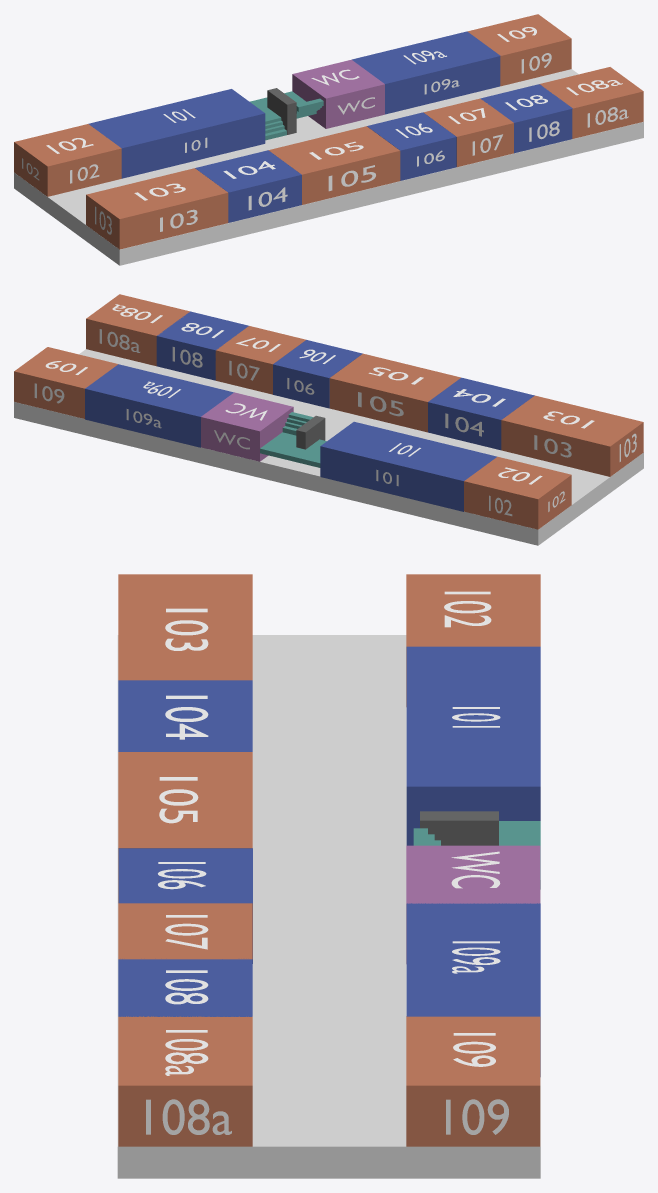
Rendered from NastavniBlokUcionice2.glb.
The picture shows the model from 3 angles, top to bottom: view 1: azimuth 30°, elevation 25°; view 2: azimuth 150°, elevation 25°; view 3: azimuth 270°, elevation 25°; orthographic projection. The views are drawn at different scales.
Visible parts, largest first — view 1: Cube, Svecana.001, 016.001, Svecana, 017, 018, 016, 016.005, WC, 016.004, 016.003, 016.002 (+2 smaller); view 2: Cube, Svecana.001, 016.001, Svecana, 017, 018, 016, 016.005, 016.004, WC, 016.003, 016.002 (+4 smaller); view 3: Cube, Svecana.001, 016.005, 016.004, Svecana, 016.001, 017, 018, 016, WC, 016.003, 016.002 (+7 smaller).
Part boxes in pixels (bbox=[...]): Cube: bbox=[14, 69, 643, 265]; Svecana.001: bbox=[88, 89, 265, 178]; 016.001: bbox=[86, 168, 228, 249]; Svecana: bbox=[352, 31, 500, 114]; 017: bbox=[268, 126, 400, 204]; 018: bbox=[14, 124, 121, 196]; 016: bbox=[195, 150, 301, 222]; 016.005: bbox=[467, 14, 571, 86]; WC: bbox=[292, 59, 384, 128]; 016.004: bbox=[539, 67, 643, 138]; 016.003: bbox=[480, 84, 572, 153]; 016.002: bbox=[423, 98, 513, 167]; Cube: bbox=[14, 349, 643, 545]; Svecana.001: bbox=[320, 421, 496, 511]; 016.001: bbox=[501, 395, 643, 476]; Svecana: bbox=[85, 364, 233, 447]; 017: bbox=[329, 353, 460, 432]; 018: bbox=[464, 456, 571, 529]; 016: bbox=[428, 377, 534, 450]; 016.005: bbox=[14, 347, 118, 418]; 016.004: bbox=[86, 294, 189, 366]; WC: bbox=[201, 392, 293, 461]; 016.003: bbox=[156, 311, 248, 380]; 016.002: bbox=[215, 326, 305, 394]; Cube: bbox=[117, 635, 540, 1178]; Svecana.001: bbox=[406, 646, 540, 845]; 016.005: bbox=[406, 1016, 540, 1146]; 016.004: bbox=[118, 1016, 252, 1146]; Svecana: bbox=[406, 903, 540, 1076]; 016.001: bbox=[118, 574, 252, 680]; 017: bbox=[118, 752, 252, 902]; 018: bbox=[406, 574, 540, 706]; 016: bbox=[118, 680, 252, 751]; WC: bbox=[406, 845, 540, 963]; 016.003: bbox=[118, 959, 252, 1016]; 016.002: bbox=[118, 903, 252, 959].
Size of the model in its own units: 36.83 by 3.19 by 12.91.
